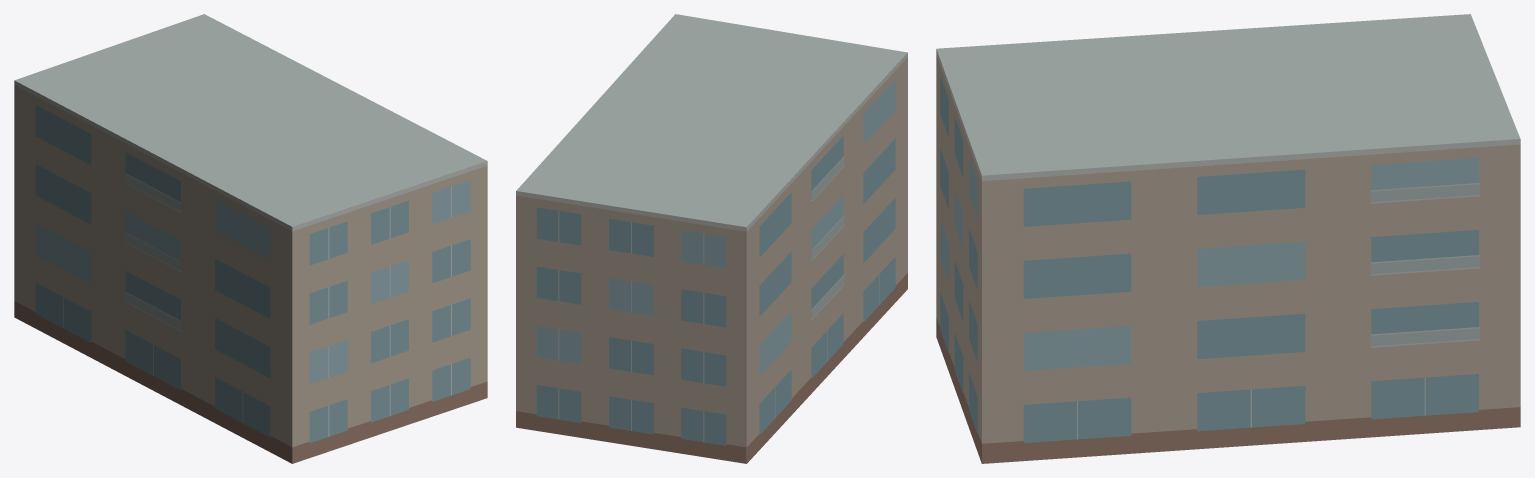
Rendered from survey-upis-32576107.glb.
The picture shows the model from 3 angles, left to right: view 1: azimuth 30°, elevation 25°; view 2: azimuth 150°, elevation 25°; view 3: azimuth 270°, elevation 25°; orthographic projection. The views are drawn at different scales.
Visible parts, largest first — view 1: survey-upis-32576107.tmp; view 2: survey-upis-32576107.tmp; view 3: survey-upis-32576107.tmp.
Part boxes in pixels (<box>): survey-upis-32576107.tmp: <box>14,14,487,463</box>; survey-upis-32576107.tmp: <box>516,14,907,463</box>; survey-upis-32576107.tmp: <box>936,14,1520,463</box>.
Bounding box in the file's own units: 15.41 × 12.8 × 23.52.
